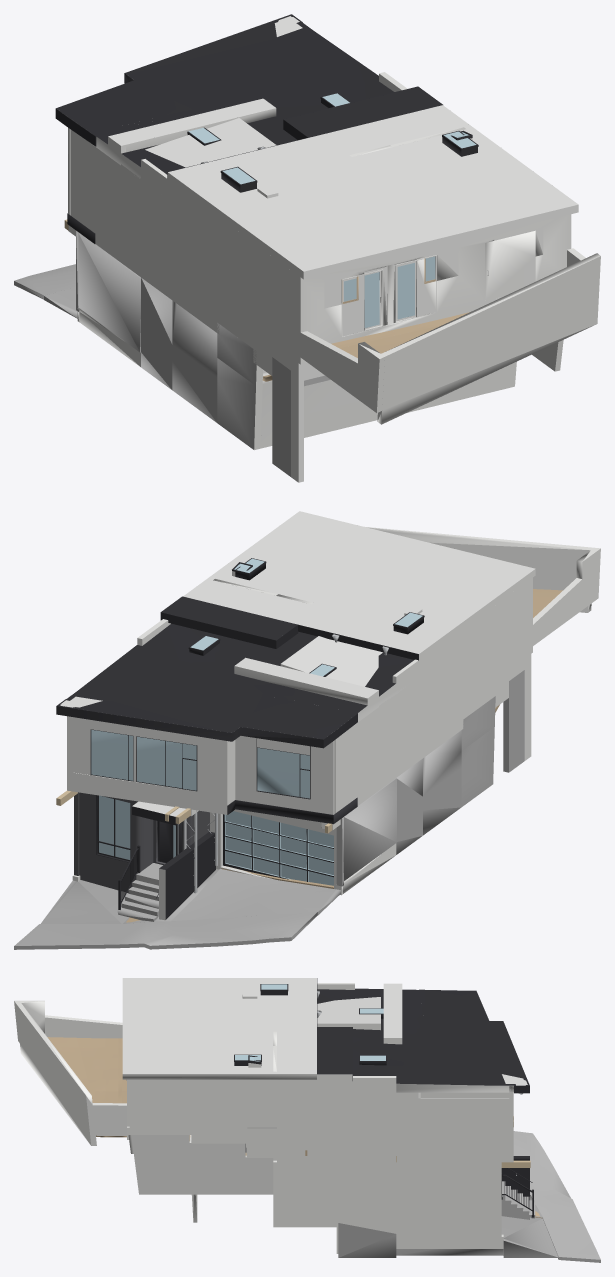
File: house.glb
The picture shows the model from 3 angles, top to bottom: view 1: azimuth 30°, elevation 25°; view 2: azimuth 150°, elevation 25°; view 3: azimuth 270°, elevation 25°; orthographic projection. The views are drawn at different scales.
Visible parts, largest first — view 1: e0693, e0684, e0618, e0606, e0668, e0669, e0154, e0166, e0386, e0670, e0697, e0687 (+26 smaller); view 2: e0693, e0684, e0077, e0380, e0032, e0076, e0618, e0668, e0669, e0391, e0386, e0166 (+35 smaller); view 3: e0693, e0684, e0408, e0399, e0406, e0666, e0077, e0119, e0182, e0186, e0618, e0155 (+18 smaller).
Boxes of the visible parts, box(x1,y1,x2,y2) form: e0693: box(167, 105, 578, 279); e0684: box(56, 14, 394, 178); e0618: box(377, 253, 600, 424); e0606: box(298, 214, 570, 364); e0668: box(219, 218, 298, 344); e0669: box(175, 186, 219, 334); e0154: box(260, 361, 516, 448); e0166: box(78, 232, 140, 352); e0386: box(71, 130, 121, 262); e0670: box(141, 159, 175, 302); e0697: box(284, 86, 443, 137); e0687: box(108, 98, 276, 155); e0693: box(183, 511, 535, 660); e0684: box(57, 623, 413, 739); e0077: box(14, 912, 317, 949); e0380: box(67, 716, 229, 814); e0032: box(223, 811, 333, 885); e0076: box(171, 868, 340, 920); e0618: box(364, 526, 593, 612); e0668: box(463, 579, 531, 686); e0669: box(425, 628, 463, 755); e0391: box(235, 736, 335, 814); e0386: box(335, 707, 379, 812); e0166: box(344, 778, 396, 880); e0693: box(122, 978, 316, 1079); e0684: box(317, 988, 529, 1092); e0408: box(307, 1076, 396, 1162); e0399: box(396, 1098, 509, 1162); e0406: box(131, 1135, 273, 1194); e0666: box(129, 1079, 276, 1127); e0077: box(513, 1131, 600, 1262); e0119: box(338, 1216, 558, 1257); e0182: box(336, 1162, 396, 1253); e0186: box(396, 1162, 451, 1233); e0618: box(15, 1003, 96, 1145); e0155: box(452, 1162, 501, 1236).
Bounding box in the file's own units: 10.29 × 9.7 × 26.25.
